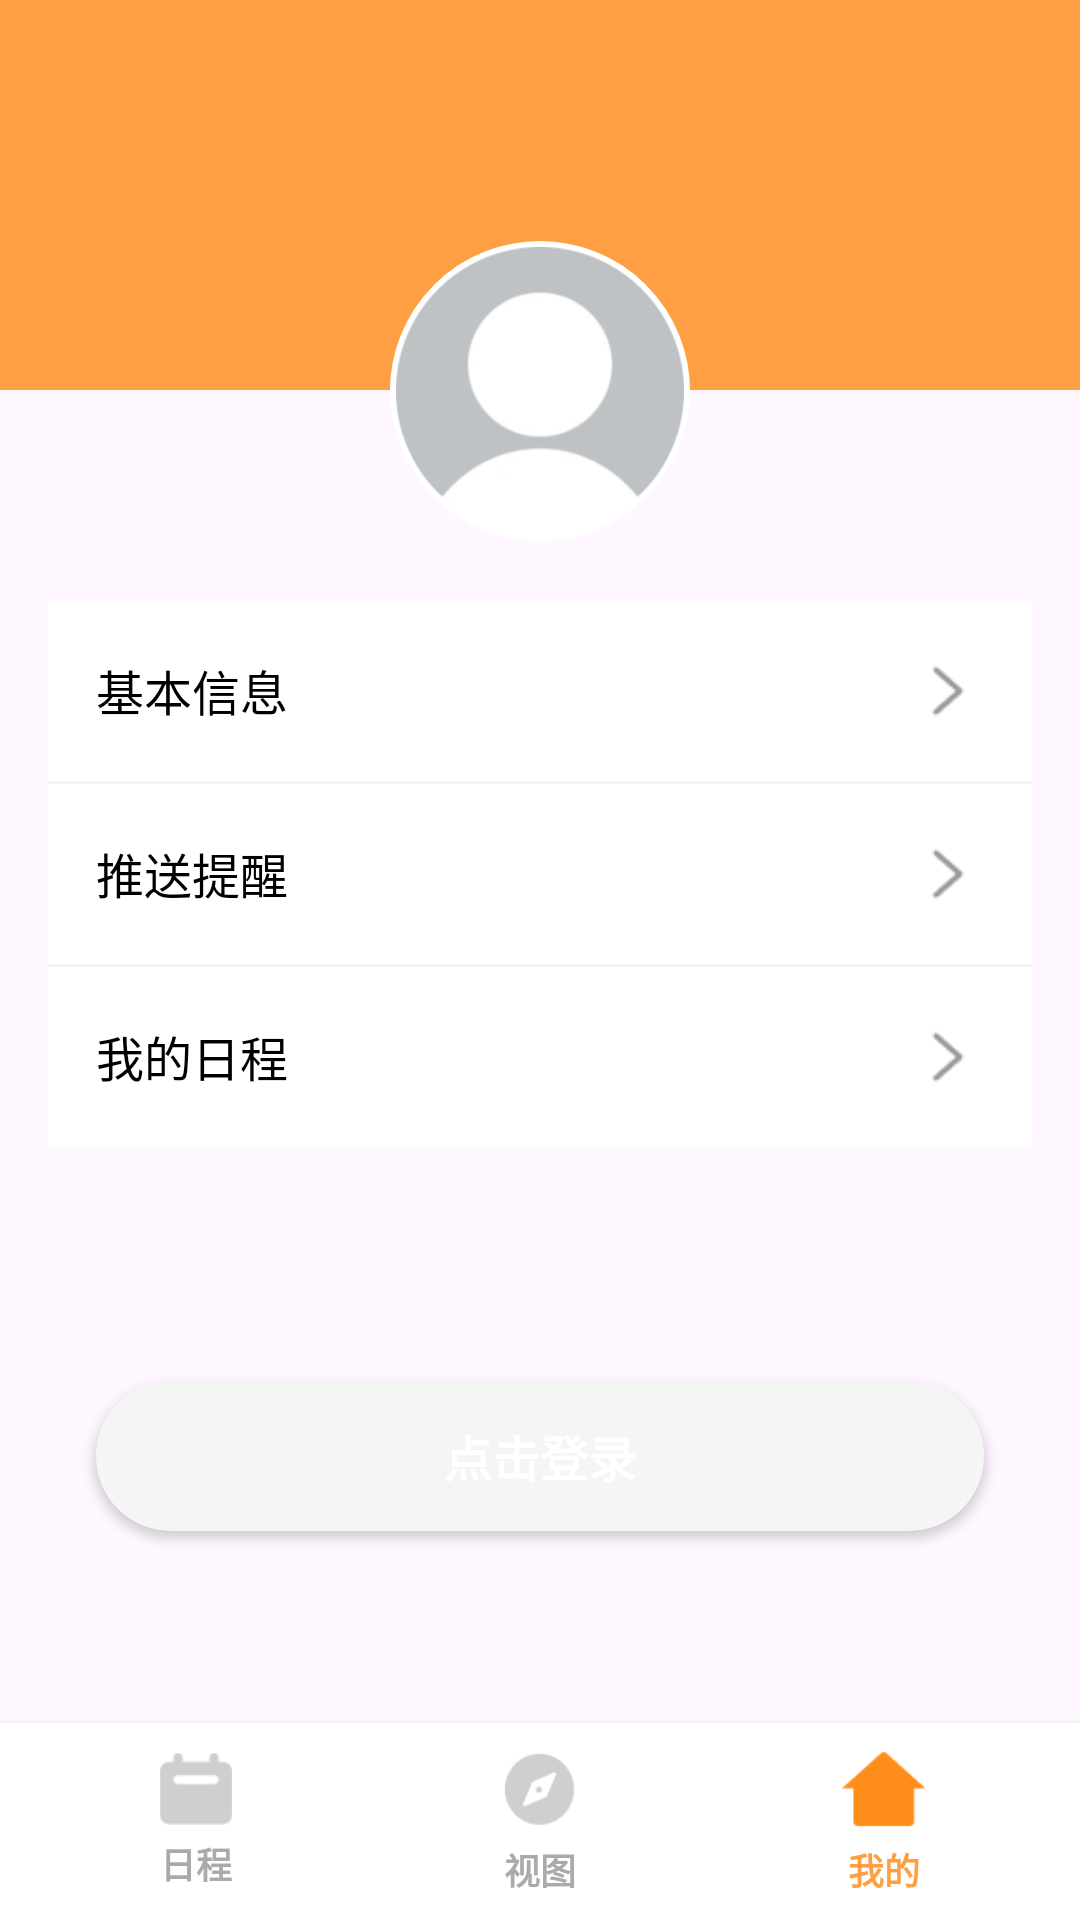

Icons on this 1080 × 1920 Android screen, each with its box as (x1, y1, x2, y2):
向右箭头: (932, 666, 963, 716), (932, 849, 963, 899), (932, 1032, 963, 1082)
